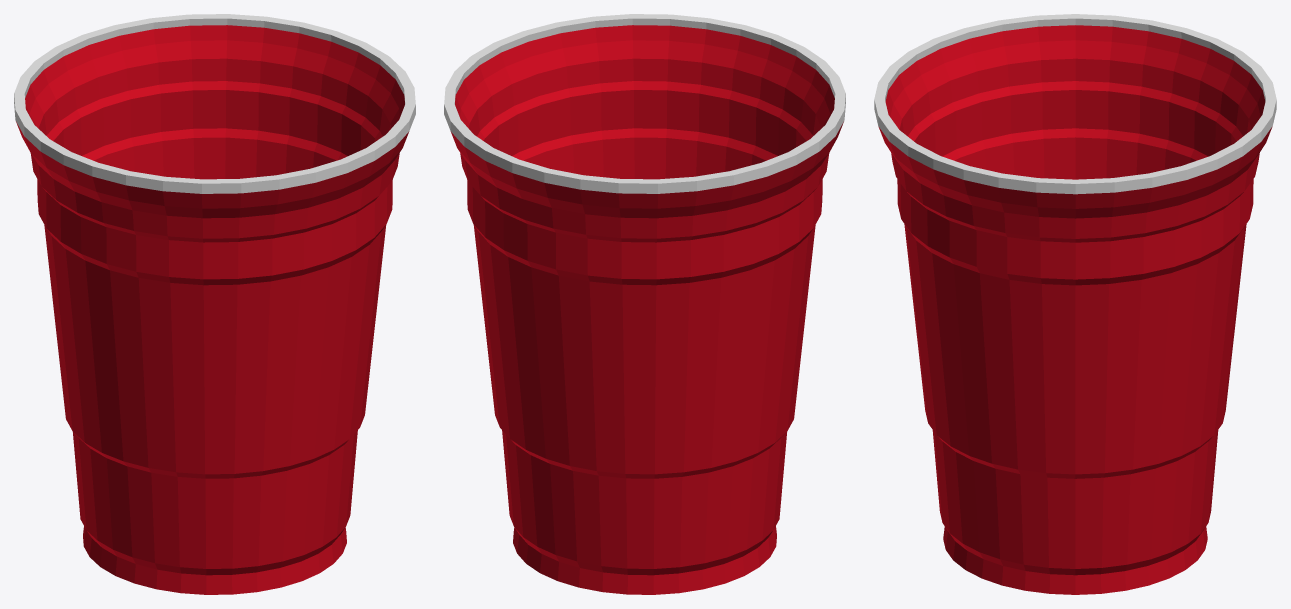
File: cupModel.fbx
3 renders of one model, left to right at view 1: azimuth 30°, elevation 25°; view 2: azimuth 150°, elevation 25°; view 3: azimuth 270°, elevation 25°, orthographic.
Parts seen in each view (by area): view 1: Cup2.0; view 2: Cup2.0; view 3: Cup2.0.
Boxes of the visible parts, x1,y1,x2,y2 form: Cup2.0: (14,14,415,594); Cup2.0: (444,14,845,594); Cup2.0: (874,14,1276,594).
Size of the model in its own units: 229 by 276 by 229.
